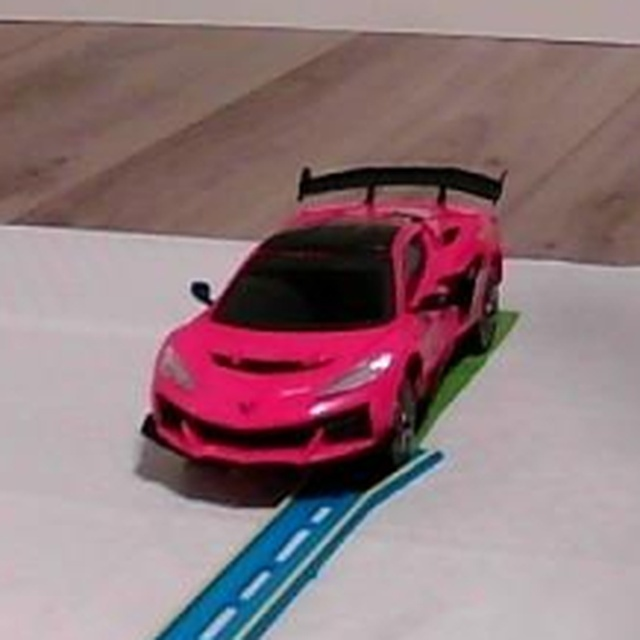tire_front_driver: (395, 378, 432, 448)
tire_rear_driver: (478, 255, 503, 335)
